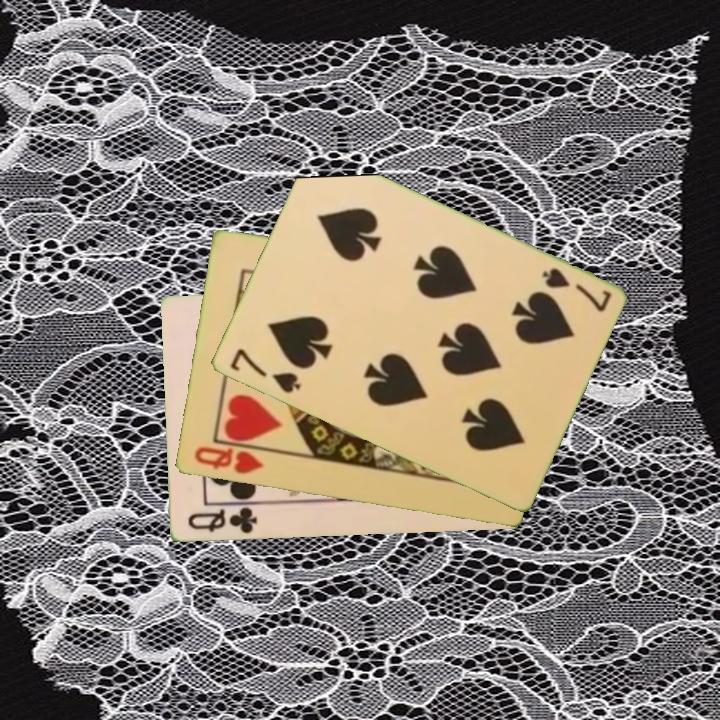7s: (225, 345, 303, 397), (538, 264, 614, 316)
Qc: (184, 502, 262, 537)
Qh: (190, 439, 272, 477)
